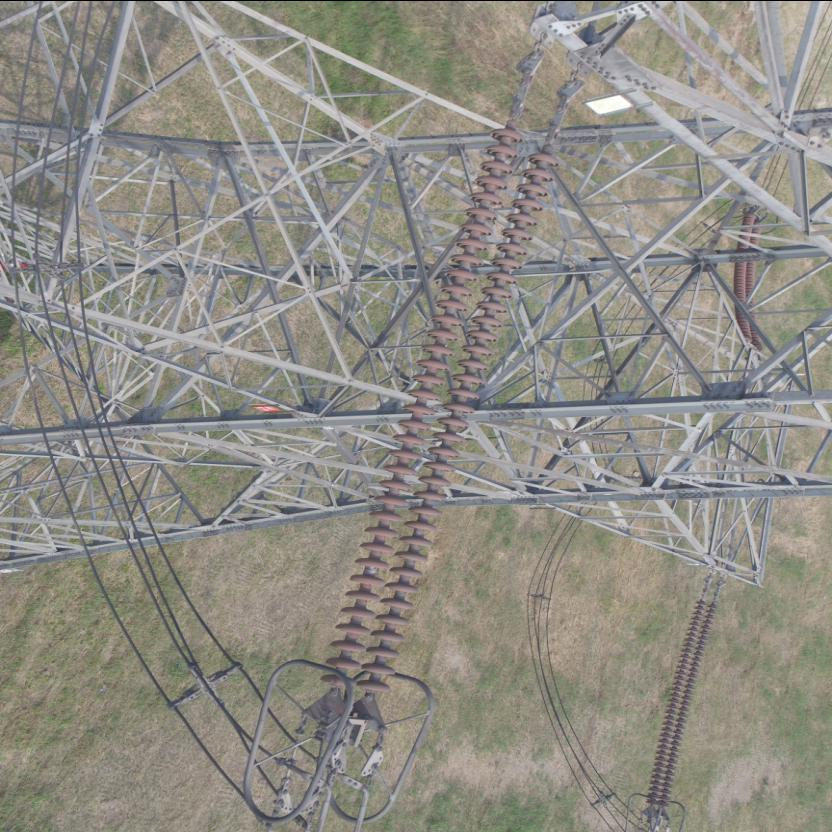insulator: (317, 103, 565, 705), (645, 586, 723, 812), (735, 209, 767, 350)
